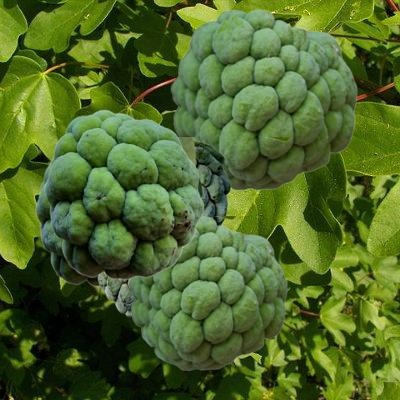atis: (170, 9, 356, 189), (44, 109, 203, 279), (128, 216, 286, 369), (97, 216, 235, 316), (179, 137, 290, 224), (35, 164, 98, 286)
